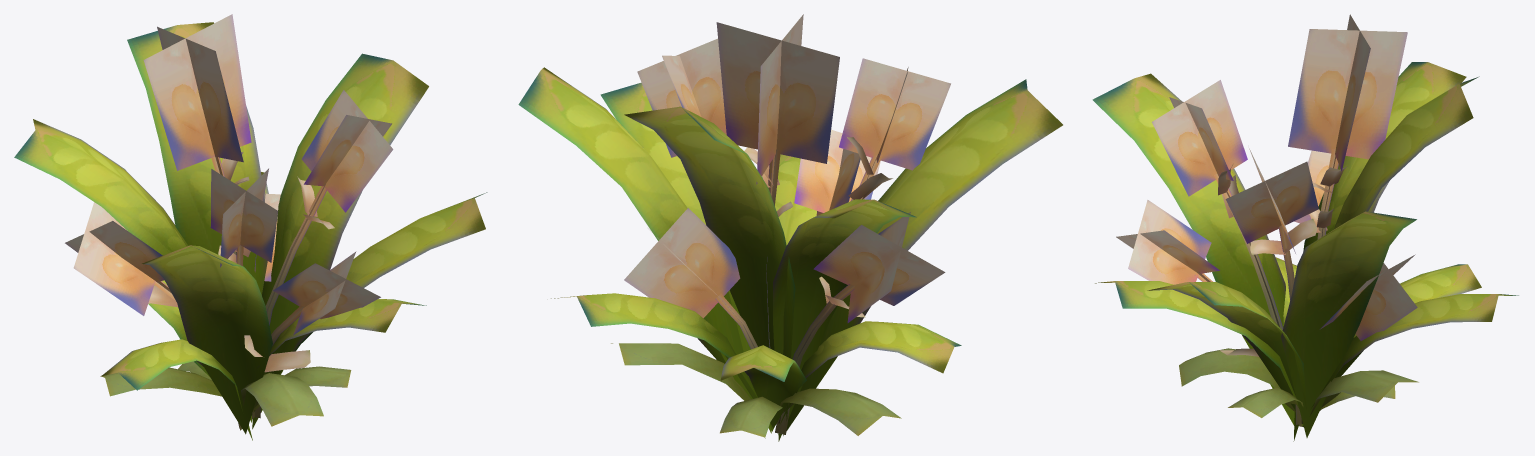
File: Homeworld_Exterior_Common_Prop_Flower_FloralDesign_02_Vo.fbx
3 renders of one model, left to right at view 1: azimuth 30°, elevation 25°; view 2: azimuth 150°, elevation 25°; view 3: azimuth 270°, elevation 25°, orthographic. The views are drawn at different scales.
Parts seen in each view (by area): view 1: Homeworld_Exterior_Common_Prop_Flower_FloralDesign_02_Vo; view 2: Homeworld_Exterior_Common_Prop_Flower_FloralDesign_02_Vo; view 3: Homeworld_Exterior_Common_Prop_Flower_FloralDesign_02_Vo.
Boxes of the visible parts, x1,y1,x2,y2 form: Homeworld_Exterior_Common_Prop_Flower_FloralDesign_02_Vo: (14, 14, 487, 440); Homeworld_Exterior_Common_Prop_Flower_FloralDesign_02_Vo: (518, 14, 1062, 441); Homeworld_Exterior_Common_Prop_Flower_FloralDesign_02_Vo: (1092, 14, 1518, 441).
Bounding box in the file's own units: 0.4071 × 0.4058 × 0.392.
